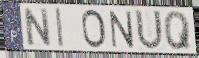I: (53, 7, 65, 49)
N: (23, 6, 53, 47), (108, 10, 135, 49)
O: (80, 8, 108, 50)
Q: (162, 10, 193, 51)
U: (134, 8, 165, 52)
